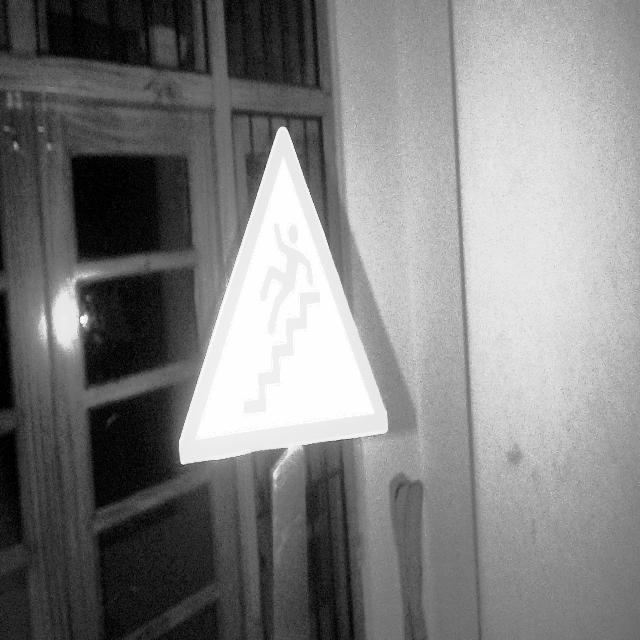Sign: (178, 124, 390, 468)
